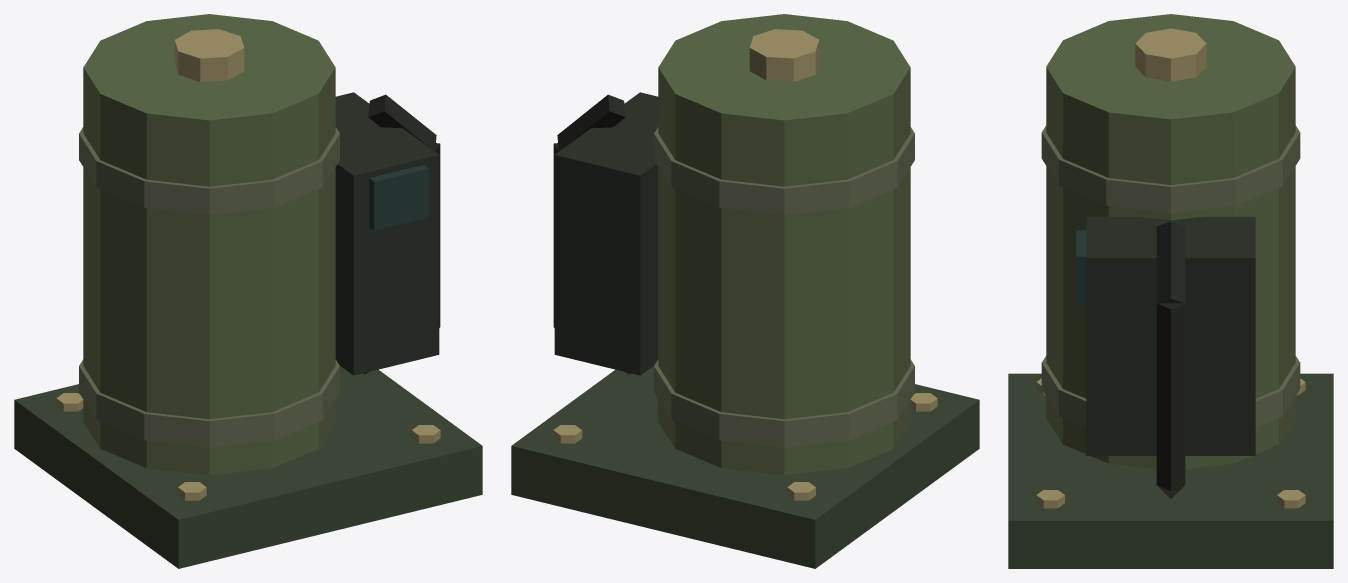
File: fuel_pump.obj
3 views of the same model, side by side, from view 1: azimuth 30°, elevation 25°; view 2: azimuth 150°, elevation 25°; view 3: azimuth 270°, elevation 25° (orthographic).
Visible parts, largest first — view 1: BASE.005; view 2: BASE.005; view 3: BASE.005.
Part boxes in pixels (x1=…): BASE.005: x1=14, y1=14, x2=482, y2=568; BASE.005: x1=511, y1=14, x2=979, y2=568; BASE.005: x1=1008, y1=14, x2=1333, y2=568.
Bounding box in the file's own units: 0.882 × 1.07 × 0.73.
Materials: 1 (1 with a texture image).
